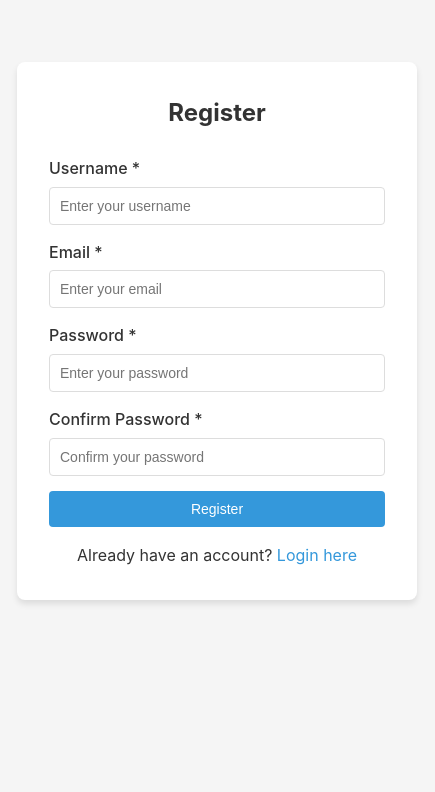
Register Component › displays validation errors for empty fields
Click the button "Register".
click(217, 509)  # box [49, 491, 385, 527]
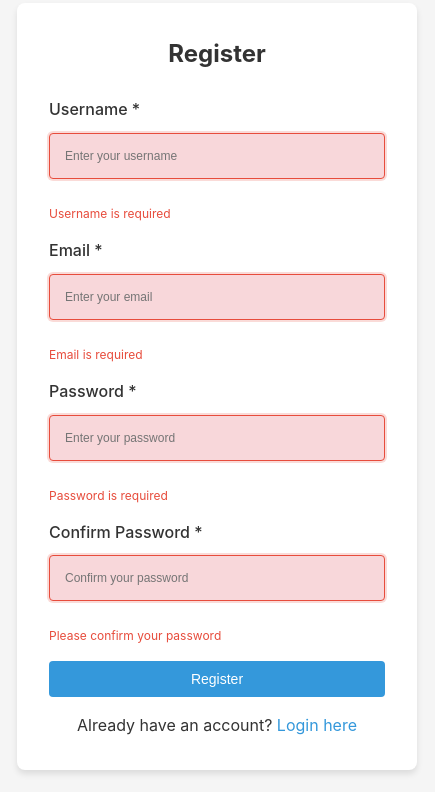
Expected: the text "Username is required" is shown, [49, 206, 171, 221]
Expected: the text "Email is required" is shown, [49, 347, 143, 362]
